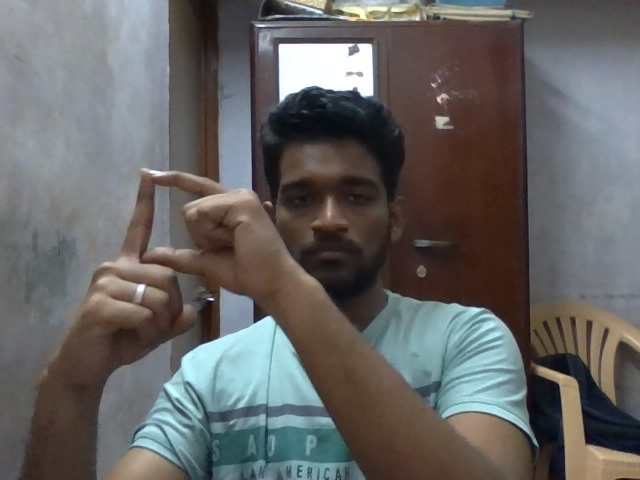D: (53, 163, 290, 391)
